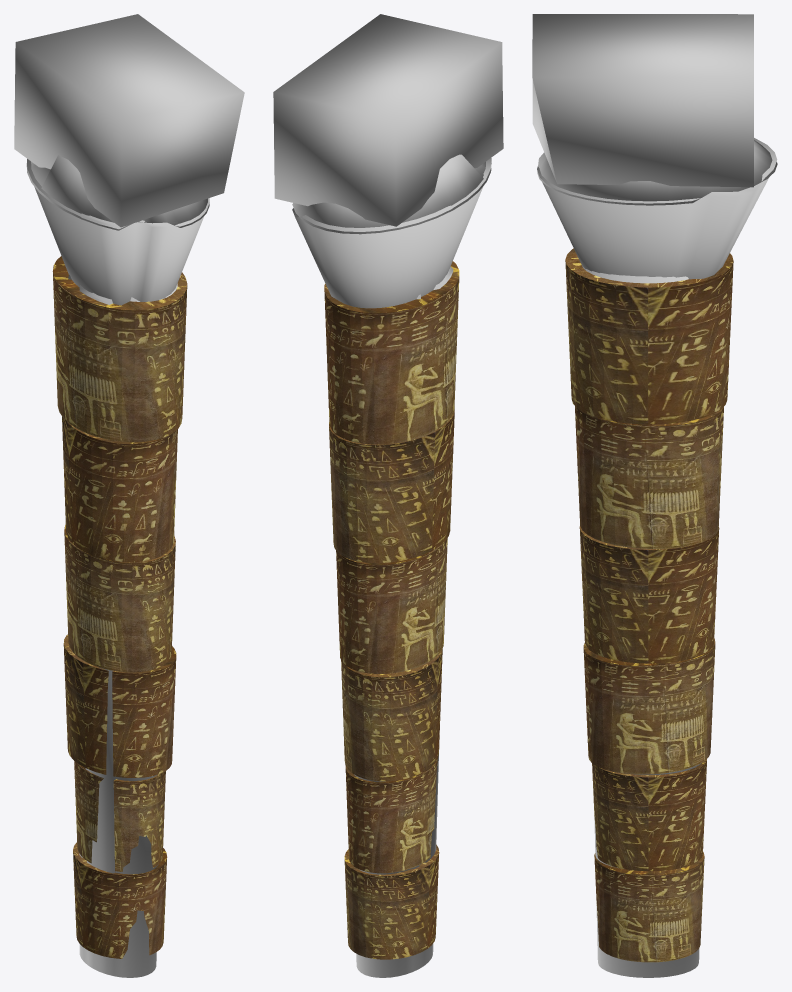
Rendered from 3amod 2.fbx.
3 renders of one model, left to right at view 1: azimuth 30°, elevation 25°; view 2: azimuth 150°, elevation 25°; view 3: azimuth 270°, elevation 25°, orthographic. The views are drawn at different scales.
Parts seen in each view (by area): view 1: Cylinder.031; view 2: Cylinder.031; view 3: Cylinder.031.
Boxes of the visible parts, x1,y1,x2,y2 form: Cylinder.031: (14,14,244,977); Cylinder.031: (273,14,503,977); Cylinder.031: (532,14,777,977).
Bounding box in the file's own units: 611 × 3645 × 878.
